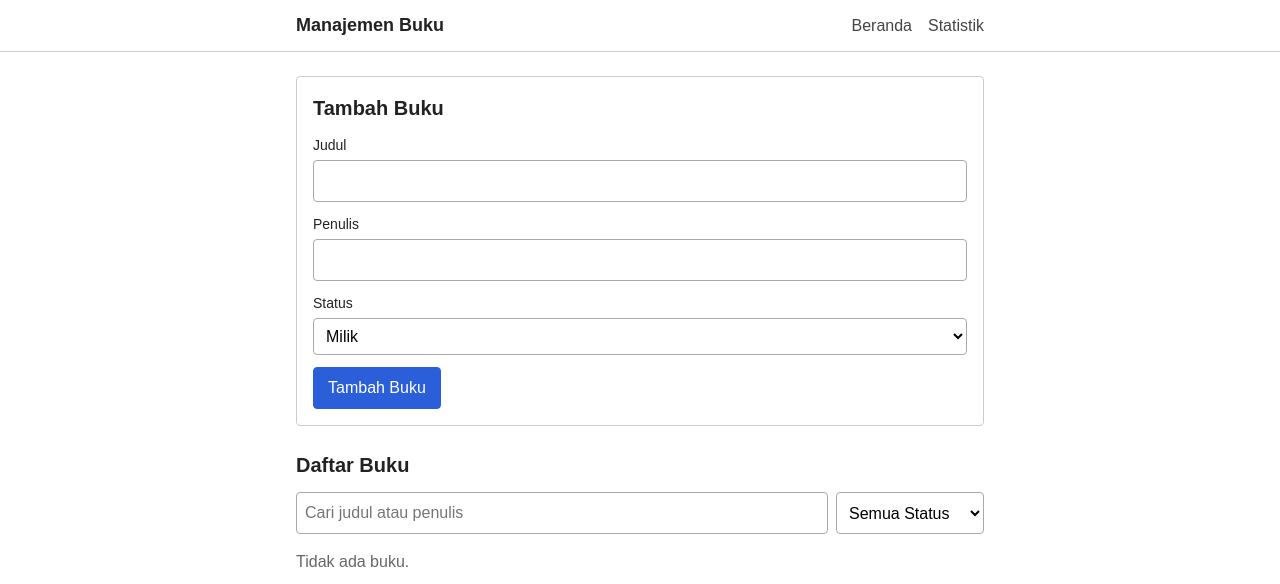
Scenario: Aplikasi Manajemen Buku › pindah halaman lewat link di Navbar
Click the link "Statistik". click: point(956, 25)
box: [928, 16, 984, 34]
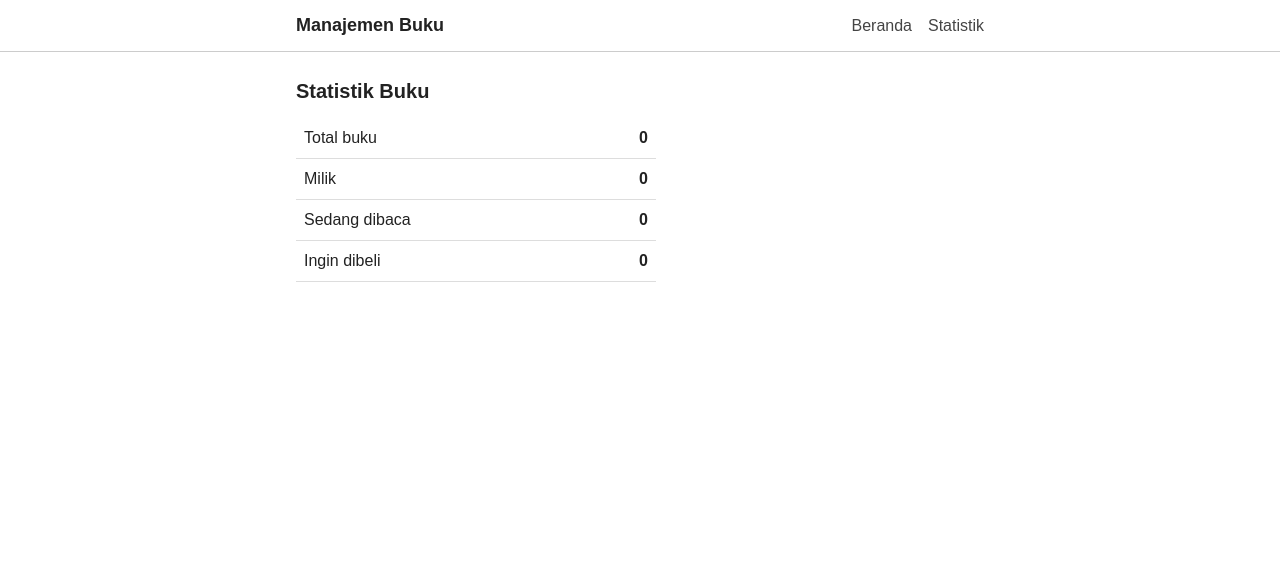
Expected: the heading "Statistik Buku" is shown, [296, 80, 429, 102]
